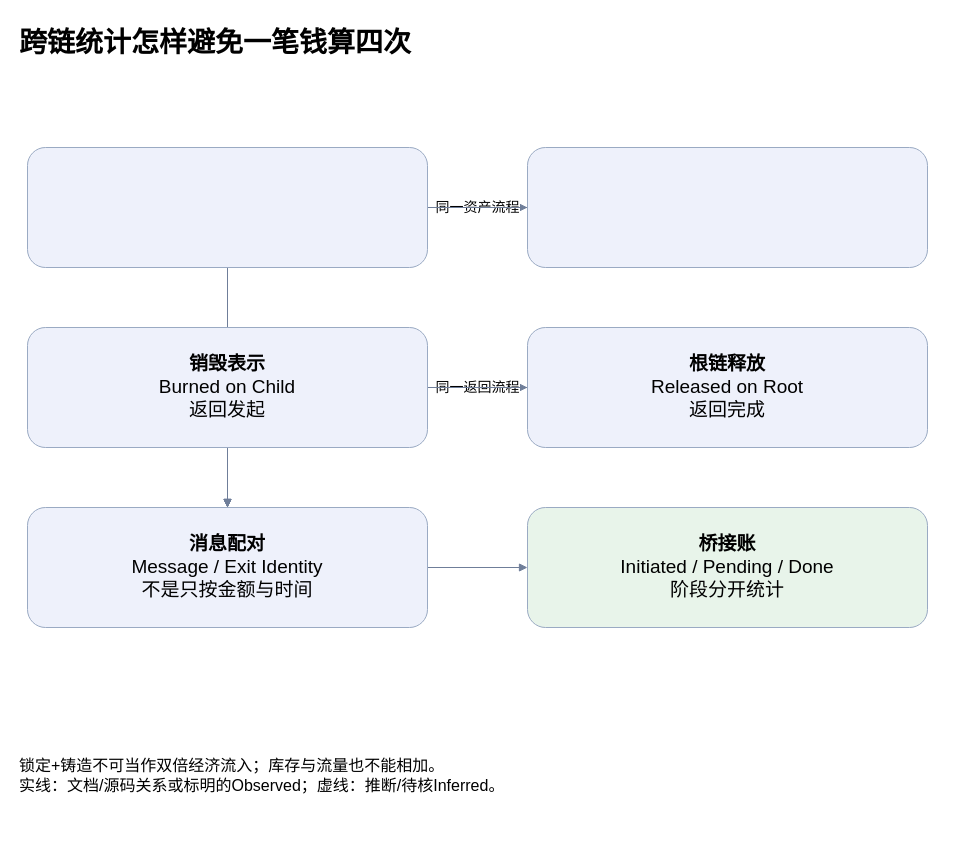
The diagram is 954 pixels wide and 849 high, and some of its shapes have lost their labels. Here are the shapes that lost their labels. From the top down, the centre of each, then its label:
At point 227,207: "锁定 Locked on Root 根链库存/发起流量".
At point 727,207: "铸造表示 Minted on Child 目标到账".
